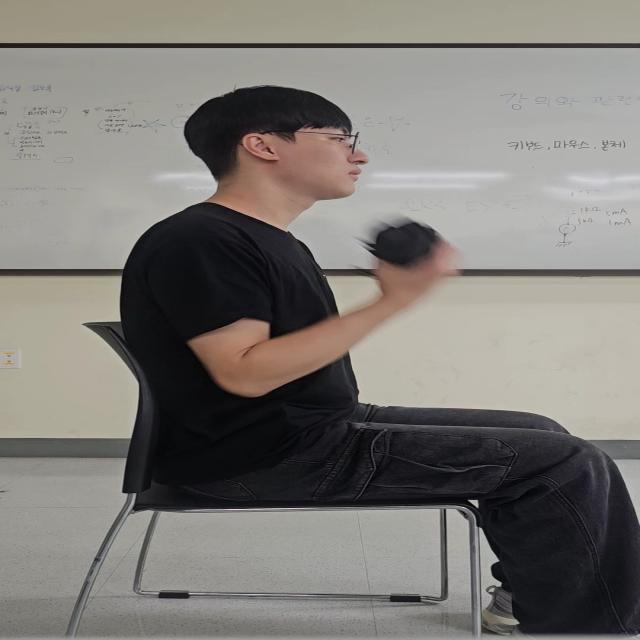curl: (166, 220, 438, 395)
